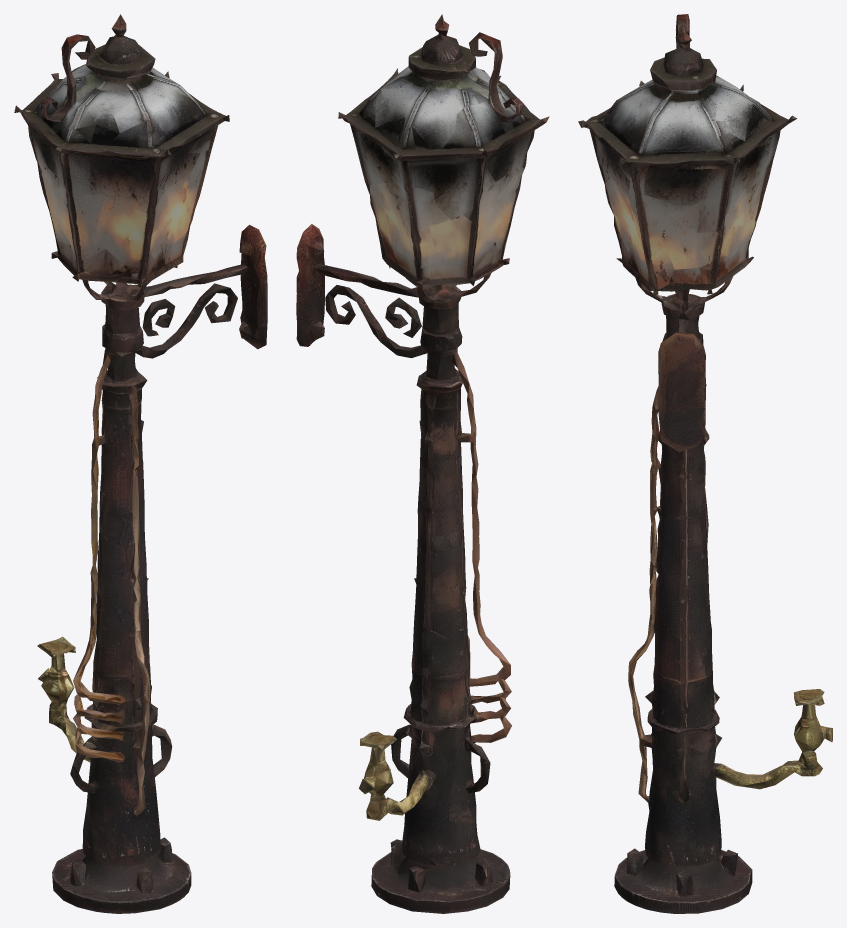
Rendered from street_lamp.glb.
3 views of the same model, side by side, from view 1: azimuth 30°, elevation 25°; view 2: azimuth 150°, elevation 25°; view 3: azimuth 270°, elevation 25° (orthographic).
Visible parts, largest first — view 1: mesh_node; view 2: mesh_node; view 3: mesh_node.
Boxes of the visible parts, bbox=[...] form: mesh_node: bbox=[14, 14, 267, 913]; mesh_node: bbox=[296, 14, 549, 913]; mesh_node: bbox=[578, 14, 832, 913].
Bounding box in the file's own units: 0.5055 × 1.9 × 0.5113.
Materials: 1 (1 with a texture image).
